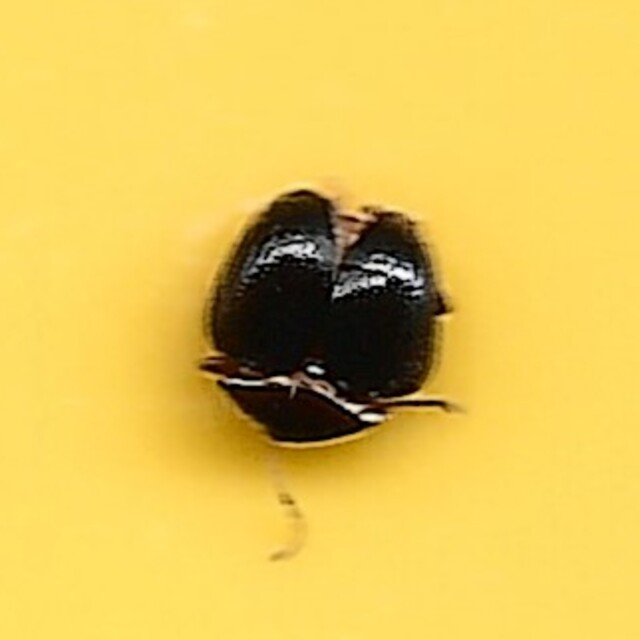Coleoptera: (199, 186, 441, 454)
